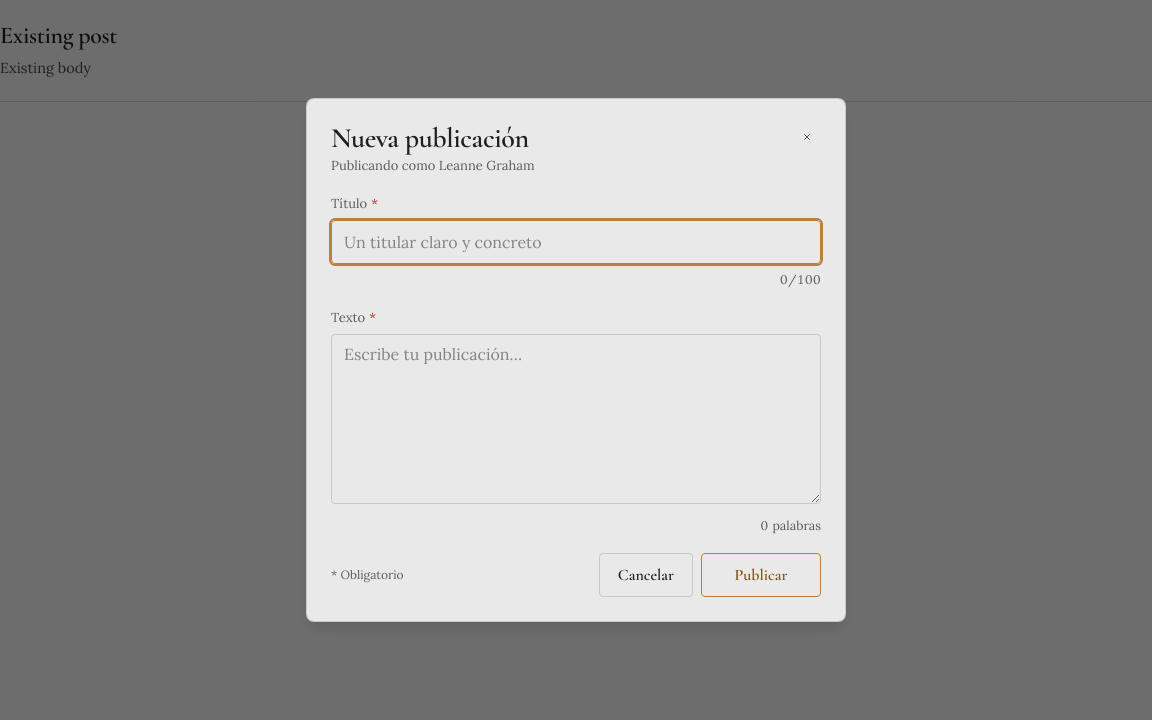
Scenario: PostForm › R3: errors update live while typing
The width and height of the screenshot is (1152, 720).
In the field labelled "Título": (576, 242) x1=331 y1=220 x2=821 y2=264, type "a"
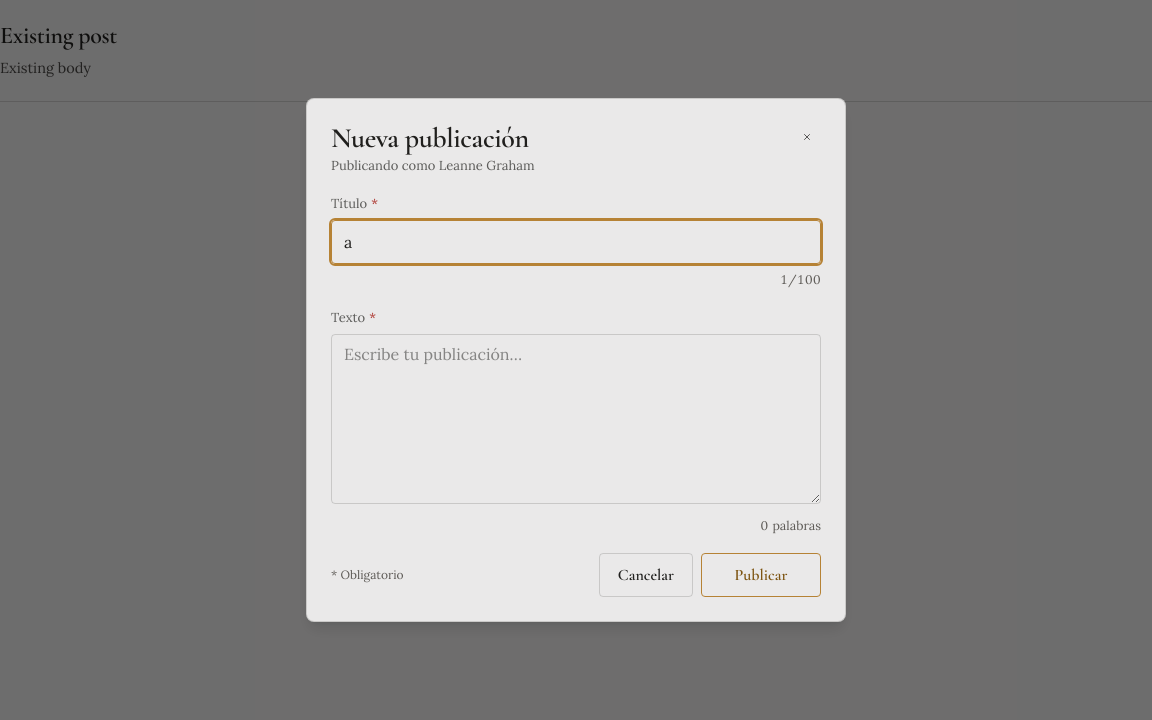
Clear the field labelled "Título": (576, 242) x1=331 y1=220 x2=821 y2=264
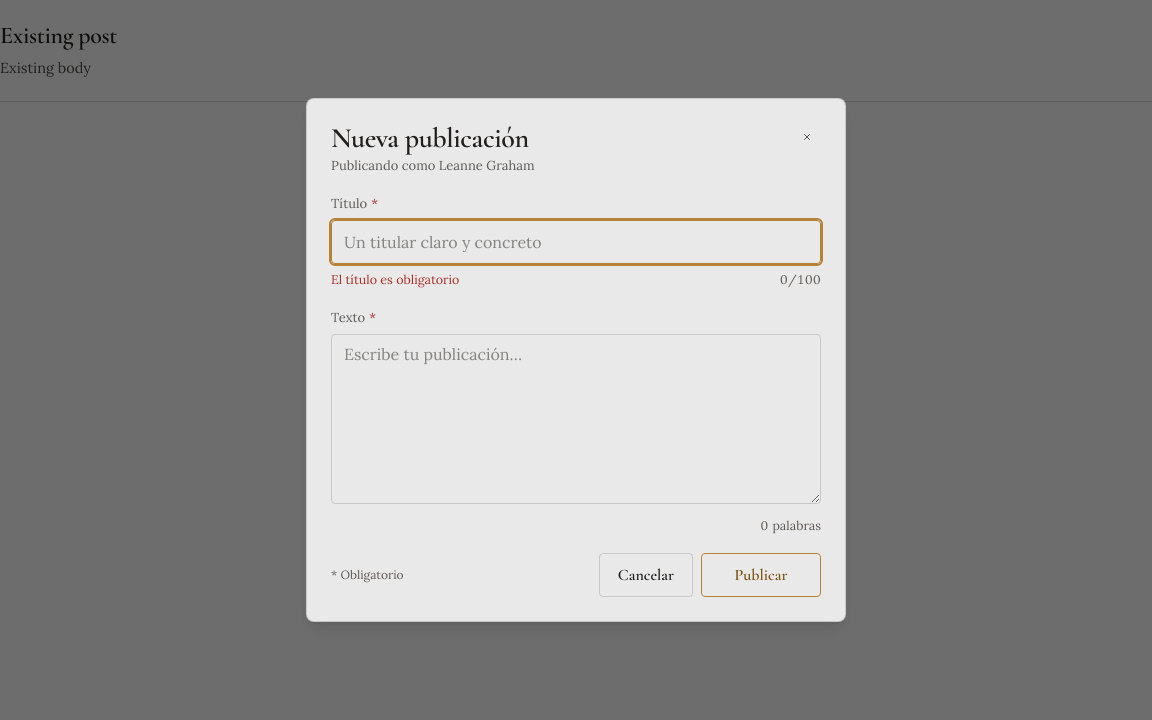
Expected: the text "El título es obligatorio" is shown, x1=331 y1=271 x2=459 y2=287
In the field labelled "Título": (576, 242) x1=331 y1=220 x2=821 y2=264, type "Hello"
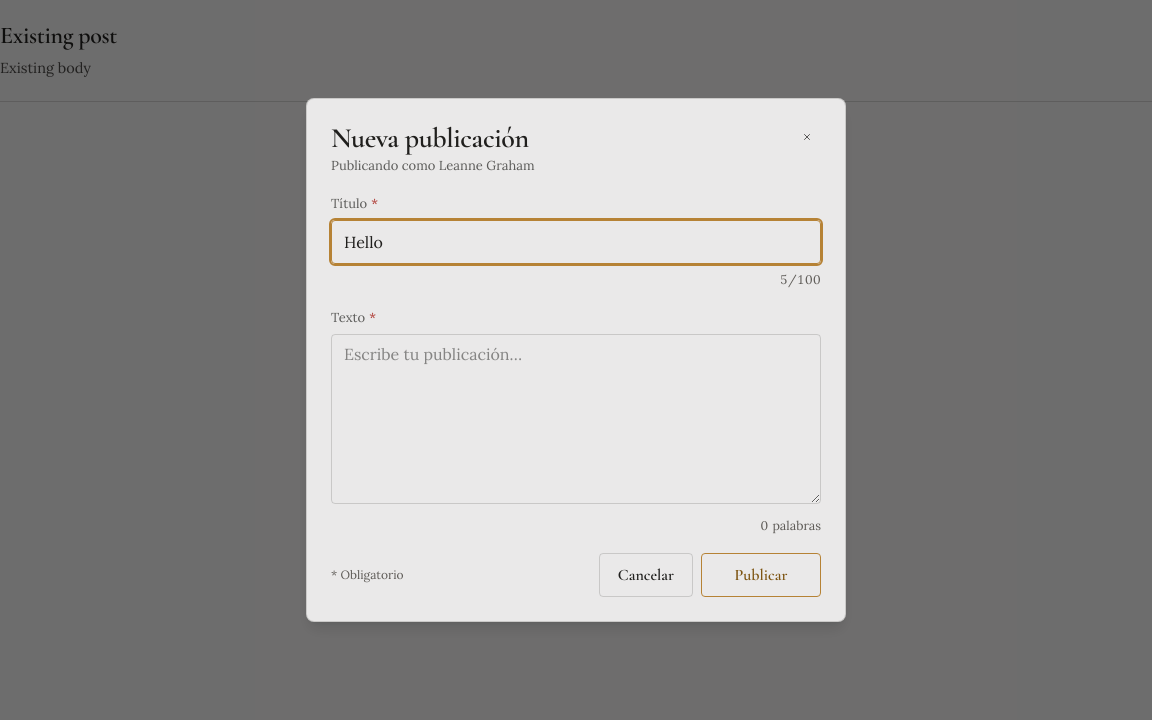
Expected: the text "El título es obligatorio" is gone
